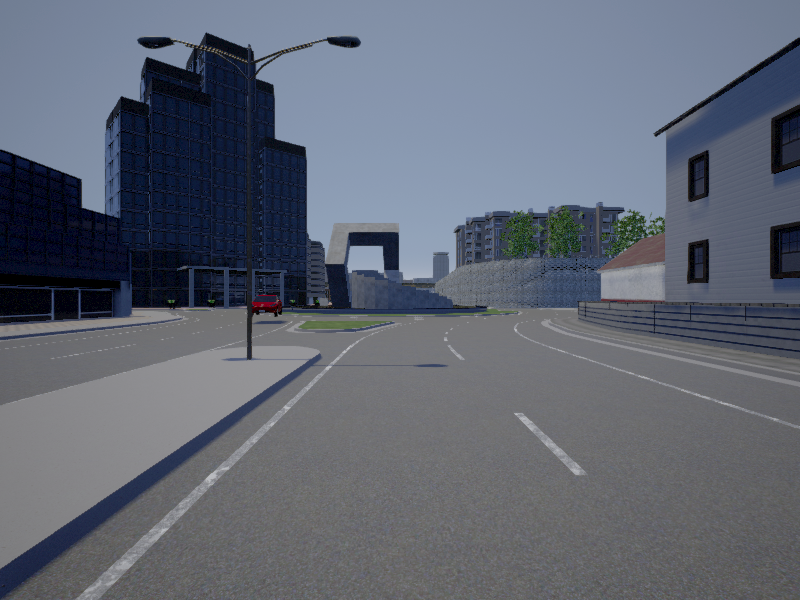Attacker: (248, 294, 284, 316)
